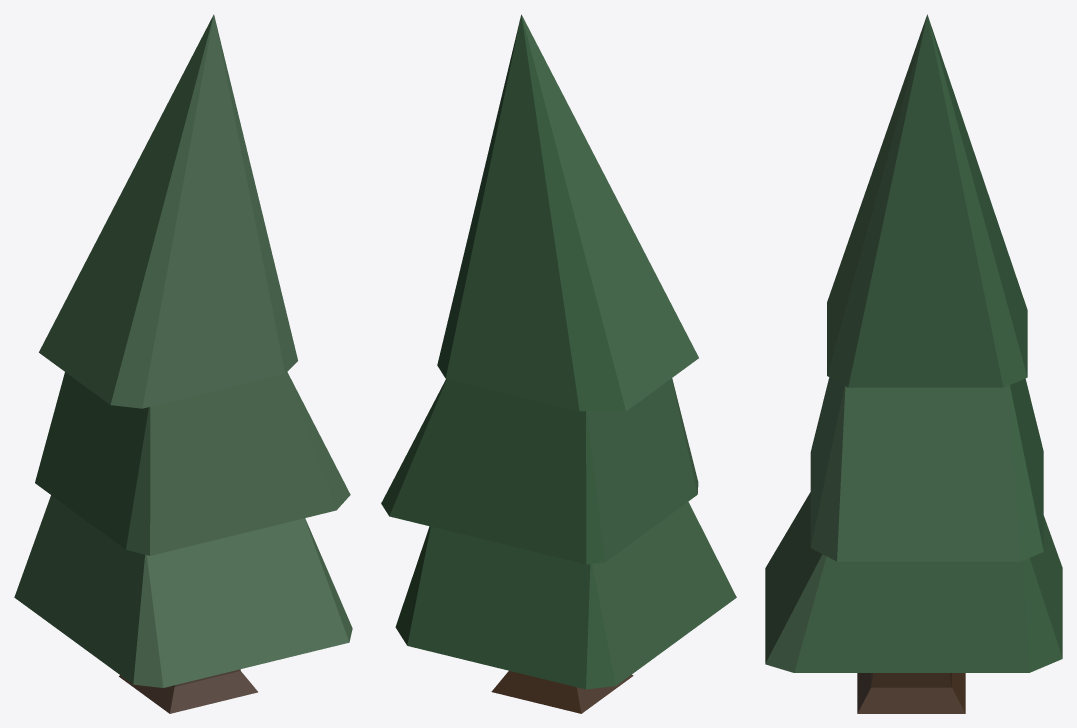
Rendered from conifer_s.glb.
The picture shows the model from 3 angles, left to right: view 1: azimuth 30°, elevation 25°; view 2: azimuth 150°, elevation 25°; view 3: azimuth 270°, elevation 25°; orthographic projection. The views are drawn at different scales.
Visible parts, largest first — view 1: conifer_s; view 2: conifer_s; view 3: conifer_s.
Part boxes in pixels (box(x1,y1,x2,y2)): conifer_s: box(14, 14, 352, 713); conifer_s: box(381, 14, 736, 713); conifer_s: box(765, 14, 1062, 713).
Bounding box in the file's own units: 1.3 × 3.4 × 1.32.
